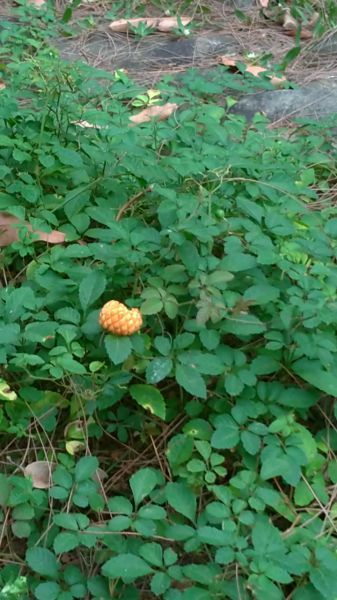eggs: (96, 294, 147, 338)
